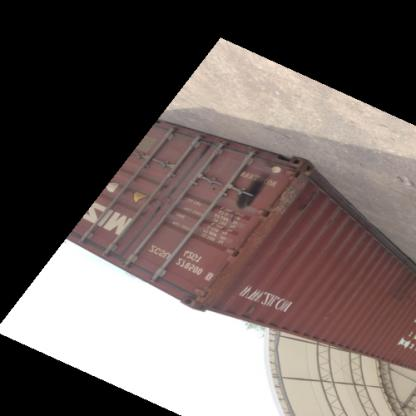Damage: (231, 164, 275, 210), (381, 265, 415, 315), (137, 174, 174, 218), (296, 188, 322, 224), (240, 302, 260, 318)
